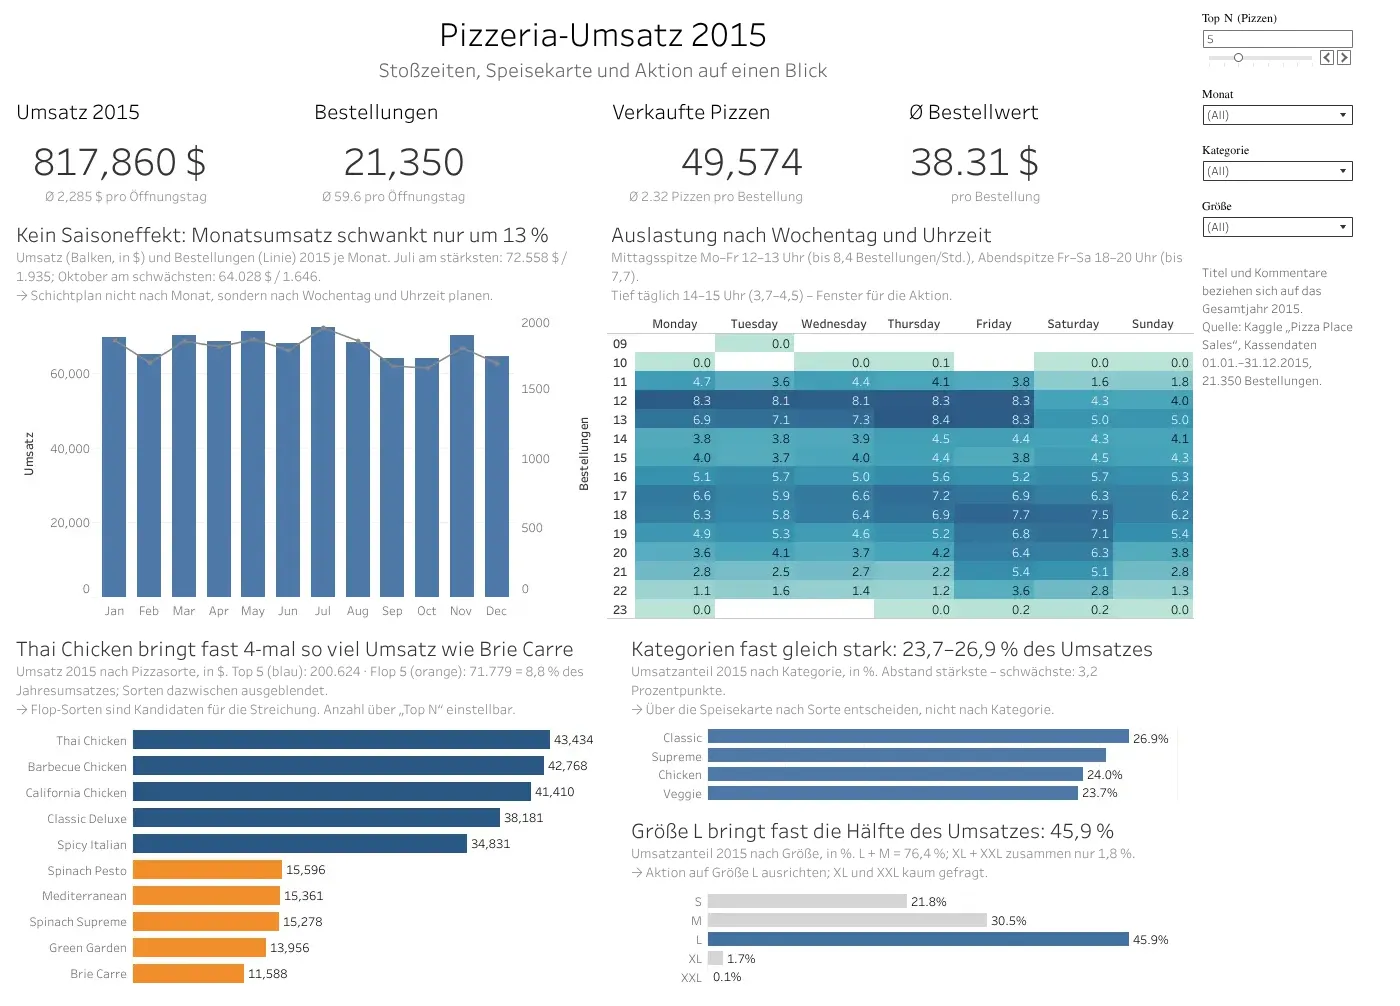

What the dashboard file says about the page in this screenshot:
{"tool":"tableau","page":{"name":"Übersicht","canvas":[1366,1000],"ordinal":3},"visuals":[{"type":"text","box":[8,8,1190,80]},{"type":"parameter","param":"[Parameters].[Parameter 2296999543885825]","box":[1198,8,160,75]},{"type":"filter","title":"05_Trend_Month","param":"[federated.01m9jpb0nns8d318329bx1hjcmr8].[mn:order_date:ok]","box":[1198,83,160,52]},{"type":"worksheet","title":"01_KPI_Revenue","mark":"Automatic","box":[8,88,298,121]},{"type":"worksheet","title":"02_KPI_Orders","mark":"Automatic","box":[306,88,298,121]},{"type":"worksheet","title":"03_KPI_Pizzas","mark":"Automatic","box":[604,88,297,121]},{"type":"worksheet","title":"04_KPI_AvgOrder","mark":"Automatic","box":[901,88,297,121]},{"type":"filter","title":"08a_Mix_Category","param":"[federated.01m9jpb0nns8d318329bx1hjcmr8].[none:category:nk]","box":[1198,135,160,52]},{"type":"filter","title":"08b_Mix_Size","param":"[federated.01m9jpb0nns8d318329bx1hjcmr8].[none:size:nk]","box":[1198,187,160,52]},{"type":"worksheet","title":"05_Trend_Month","mark":"Line","rows":["revenue","order_id"],"cols":["order_date"],"box":[8,209,595,416]},{"type":"worksheet","title":"06_Heatmap_Load","mark":"Square","rows":["hour"],"cols":["order_date"],"box":[603,209,595,416]},{"type":"text","box":[1198,239,160,144]},{"type":"worksheet","title":"07_Top_Bottom","mark":"Automatic","rows":["Calculation_2296999550345222"],"cols":["revenue"],"box":[8,625,615,367]},{"type":"worksheet","title":"08a_Mix_Category","mark":"Automatic","rows":["category"],"box":[623,625,575,181.9]},{"type":"worksheet","title":"08b_Mix_Size","mark":"Automatic","rows":["size"],"box":[623,806.9,575,185.1]}]}

Visuals, with their boxes in screenshot pixels (x1, y1, x2, y2), scaled from the page's 1366x1000 canvas onto the 1400x1006 screenshot:
text: crop(8, 8, 1228, 89)
parameter: crop(1228, 8, 1392, 83)
"05_Trend_Month" filter: crop(1228, 83, 1392, 136)
"01_KPI_Revenue" worksheet: crop(8, 89, 314, 210)
"02_KPI_Orders" worksheet: crop(314, 89, 619, 210)
"03_KPI_Pizzas" worksheet: crop(619, 89, 923, 210)
"04_KPI_AvgOrder" worksheet: crop(923, 89, 1228, 210)
"08a_Mix_Category" filter: crop(1228, 136, 1392, 188)
"08b_Mix_Size" filter: crop(1228, 188, 1392, 240)
"05_Trend_Month" worksheet (Line marks): crop(8, 210, 618, 629)
"06_Heatmap_Load" worksheet (Square marks): crop(618, 210, 1228, 629)
text: crop(1228, 240, 1392, 385)
"07_Top_Bottom" worksheet: crop(8, 629, 639, 998)
"08a_Mix_Category" worksheet: crop(639, 629, 1228, 812)
"08b_Mix_Size" worksheet: crop(639, 812, 1228, 998)
